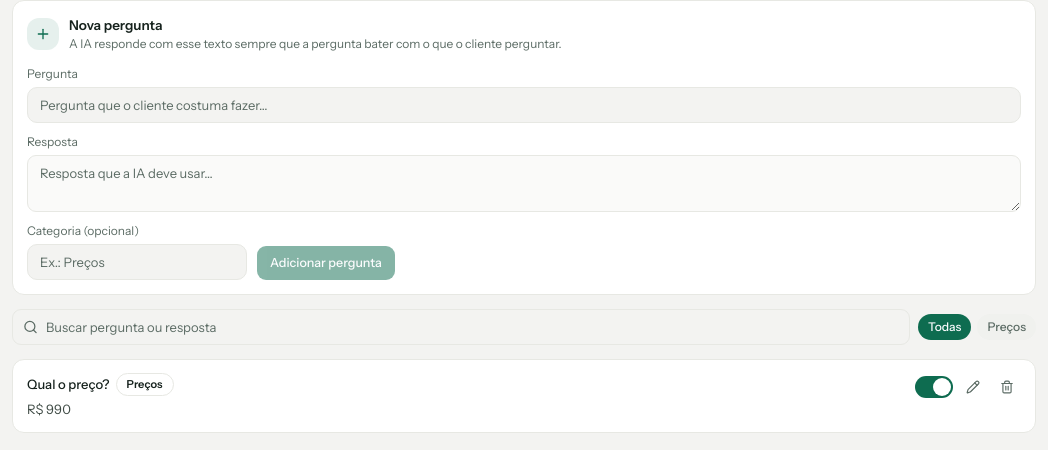
AiFaqPanel (Cérebro da IA v3, Fase 2) › desativa uma FAQ pelo toggle (sem apagar)
This screenshot has width=1048, height=450.
Expected: the text "Qual o preço?" is shown, [27, 375, 110, 394]
Click the switch named "Desativar pergunta". click: [934, 387]
box: [915, 376, 953, 398]
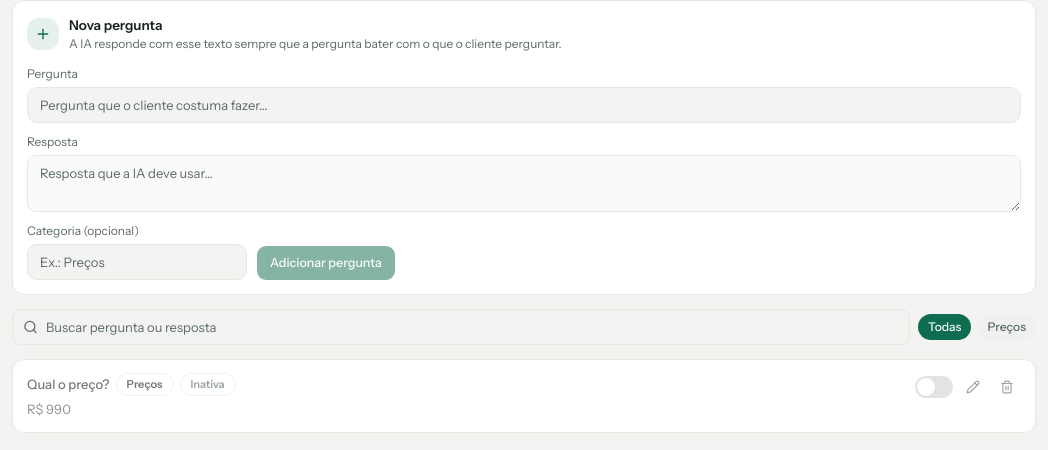
Now the text "Inativa" is shown, box [180, 373, 236, 396]
